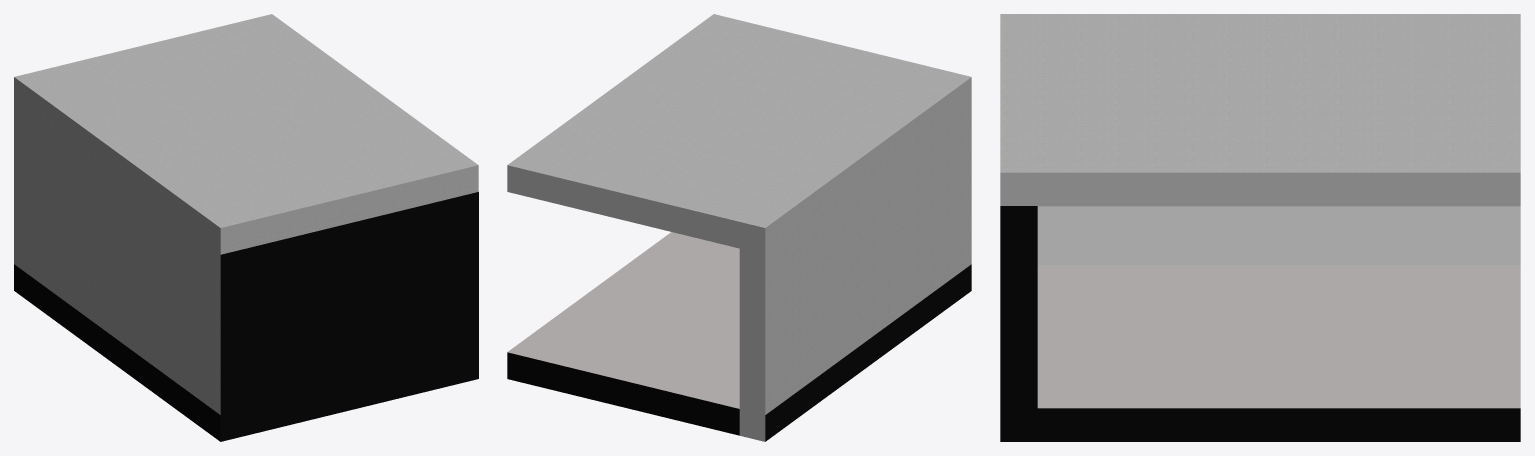
The model's file is Kitchen Structure.fbx.
3 renders of one model, left to right at view 1: azimuth 30°, elevation 25°; view 2: azimuth 150°, elevation 25°; view 3: azimuth 270°, elevation 25°, orthographic. The views are drawn at different scales.
Visible parts, largest first — view 1: mtr_wall_2 Mesh (1), Black Mesh (1); view 2: mtr_wall_2 Mesh (1), FloorMtr_2 Mesh (1), Wall Mesh (1), Black Mesh (1); view 3: mtr_wall_2 Mesh (1), FloorMtr_2 Mesh (1), White_M Mesh (1), Black Mesh (1), Wall Mesh (1).
Boxes of the visible parts, x1,y1,x2,y2 form: mtr_wall_2 Mesh (1): (14, 14, 478, 414); Black Mesh (1): (14, 192, 478, 441); mtr_wall_2 Mesh (1): (507, 14, 971, 414); FloorMtr_2 Mesh (1): (507, 232, 739, 408); Wall Mesh (1): (507, 165, 765, 441); Black Mesh (1): (507, 264, 971, 441); mtr_wall_2 Mesh (1): (1000, 14, 1520, 172); FloorMtr_2 Mesh (1): (1037, 265, 1520, 408); White_M Mesh (1): (1037, 206, 1520, 265); Black Mesh (1): (1000, 206, 1520, 441); Wall Mesh (1): (1000, 172, 1520, 206).
Size of what is drawn, in the model's own units: 10.11 by 8 by 14.
